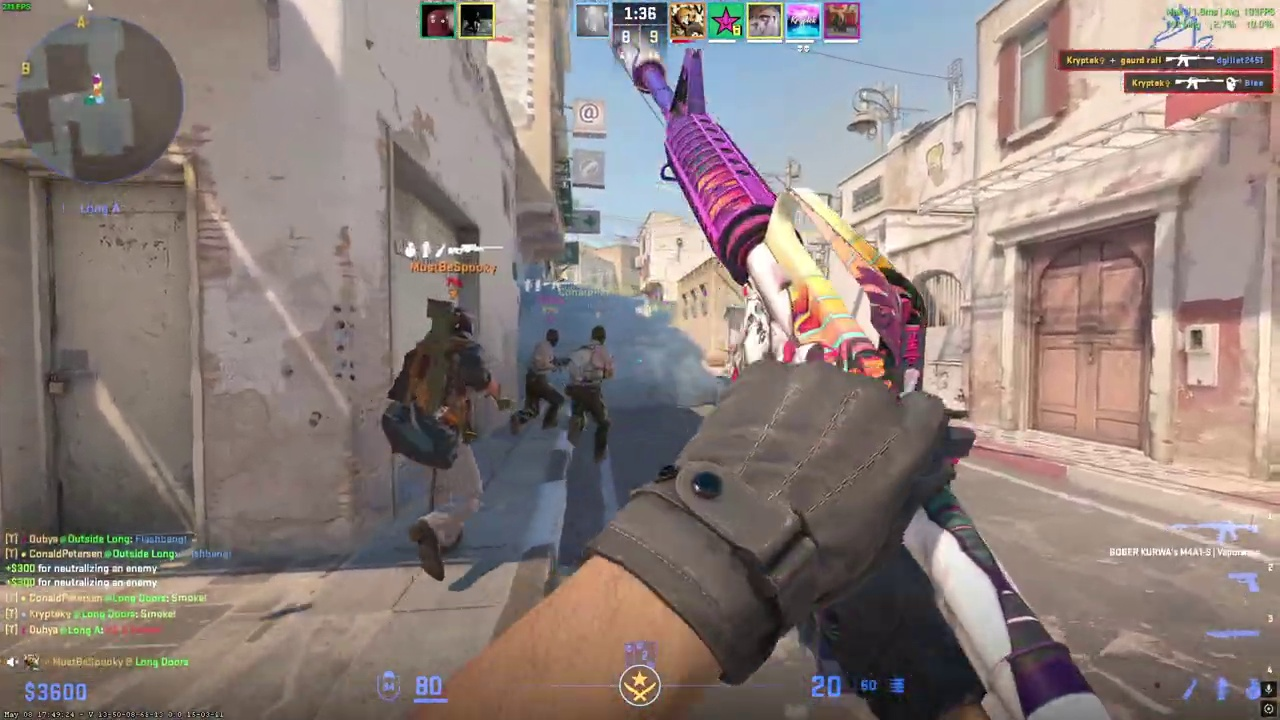Terrorist: (390, 304, 502, 582), (564, 325, 615, 465), (512, 328, 564, 433)
